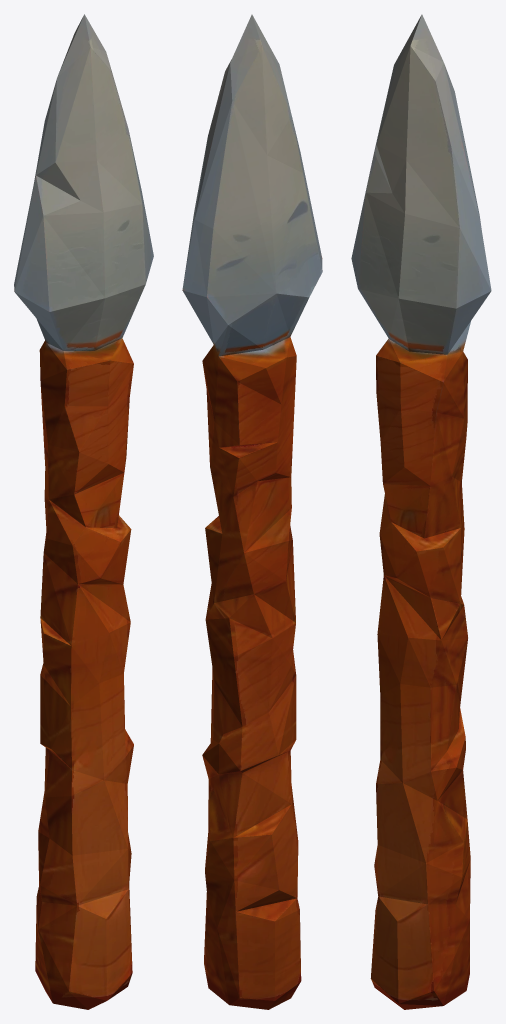
The model's file is wooden_spear.glb.
The picture shows the model from 3 angles, left to right: view 1: azimuth 30°, elevation 25°; view 2: azimuth 210°, elevation 25°; view 3: azimuth 330°, elevation 25°; orthographic projection.
Parts seen in each view (by area): view 1: TexturedMesh_.obj; view 2: TexturedMesh_.obj; view 3: TexturedMesh_.obj.
Boxes of the visible parts, bbox=[...] form: TexturedMesh_.obj: bbox=[14, 14, 153, 1009]; TexturedMesh_.obj: bbox=[182, 14, 322, 1009]; TexturedMesh_.obj: bbox=[351, 14, 491, 1009].
Bounding box in the file's own units: 0.2921 × 1.97 × 0.1736.
Materials: 1 (1 with a texture image).
